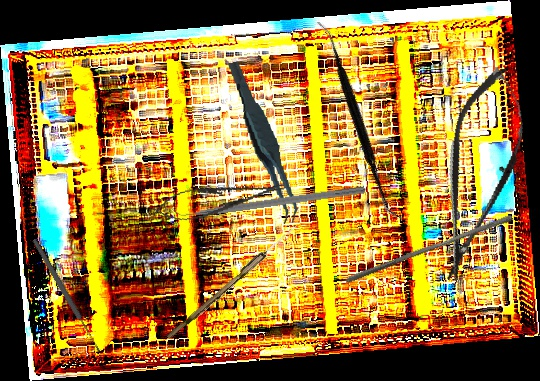Chopper: (168, 175, 366, 221)
Micro Scissor: (419, 61, 539, 289)
Needle Holder: (150, 171, 289, 228)
Pusher: (344, 208, 514, 291)
Spatula Surgical: (251, 17, 469, 223)
Surgical Spoon: (166, 220, 300, 343), (31, 237, 102, 354)
Tissue Forceps: (227, 56, 300, 229)
